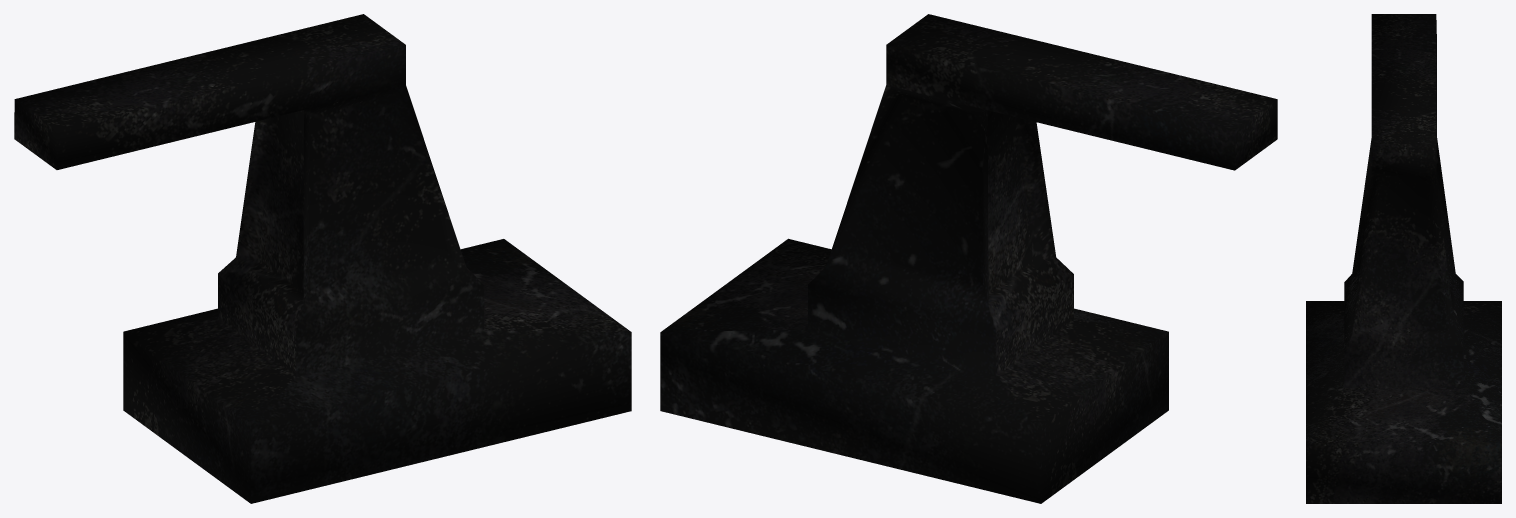
The model's file is pilar pintado.fbx.
The picture shows the model from 3 angles, left to right: view 1: azimuth 30°, elevation 25°; view 2: azimuth 150°, elevation 25°; view 3: azimuth 270°, elevation 25°; orthographic projection. The views are drawn at different scales.
Parts seen in each view (by area): view 1: Lapida_Sofi; view 2: Lapida_Sofi; view 3: Lapida_Sofi.
Part boxes in pixels (left/top/right/bottom): Lapida_Sofi: left=14, top=14, right=631, bottom=503; Lapida_Sofi: left=660, top=14, right=1277, bottom=503; Lapida_Sofi: left=1306, top=14, right=1501, bottom=503.
Bounding box in the file's own units: 2097 × 1429 × 872.
